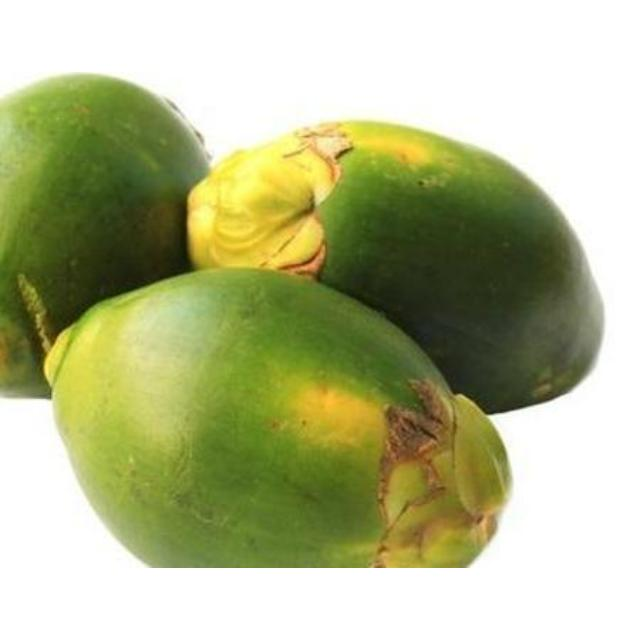good: (44, 268, 509, 567), (185, 122, 607, 418), (0, 73, 212, 401)
